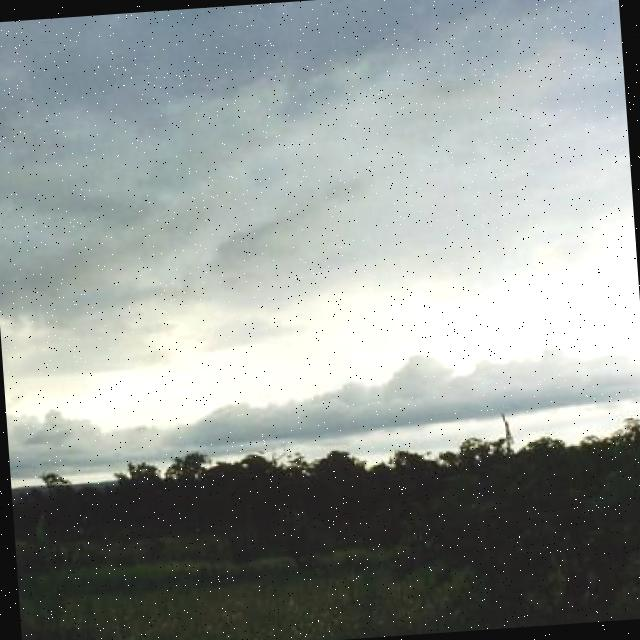Sc: (1, 3, 640, 450)
